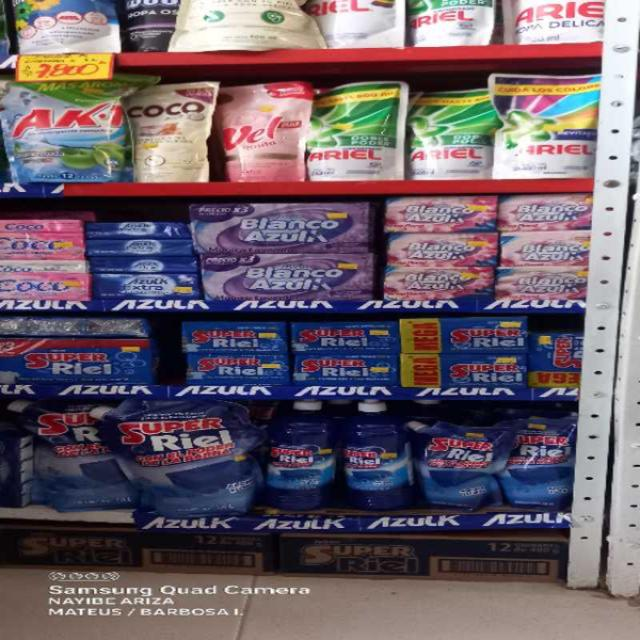Super_Riel: (267, 398, 342, 522), (342, 398, 418, 519)
